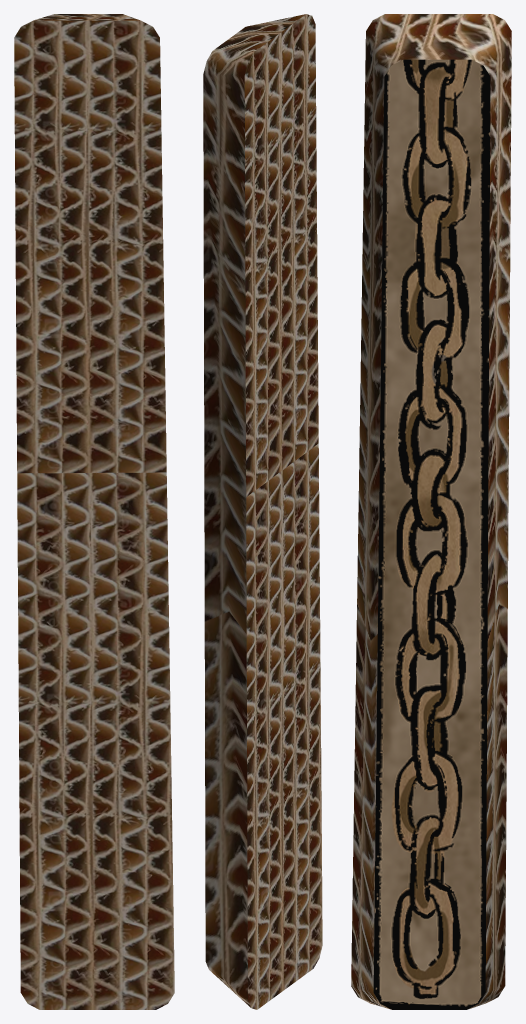
The model's file is Chain_1.fbx.
3 views of the same model, side by side, from view 1: azimuth 90°, elevation 25°; view 2: azimuth 150°, elevation 25°; view 3: azimuth 270°, elevation 25° (orthographic). The views are drawn at different scales.
Parts seen in each view (by area): view 1: Plane; view 2: Plane; view 3: Plane.
Boxes of the visible parts, bbox=[...] form: Plane: bbox=[14, 14, 174, 1009]; Plane: bbox=[203, 14, 322, 1009]; Plane: bbox=[351, 14, 511, 1009].
Size of the model in its own units: 4.56 by 80.71 by 11.88.
1 material, 1 textured.
